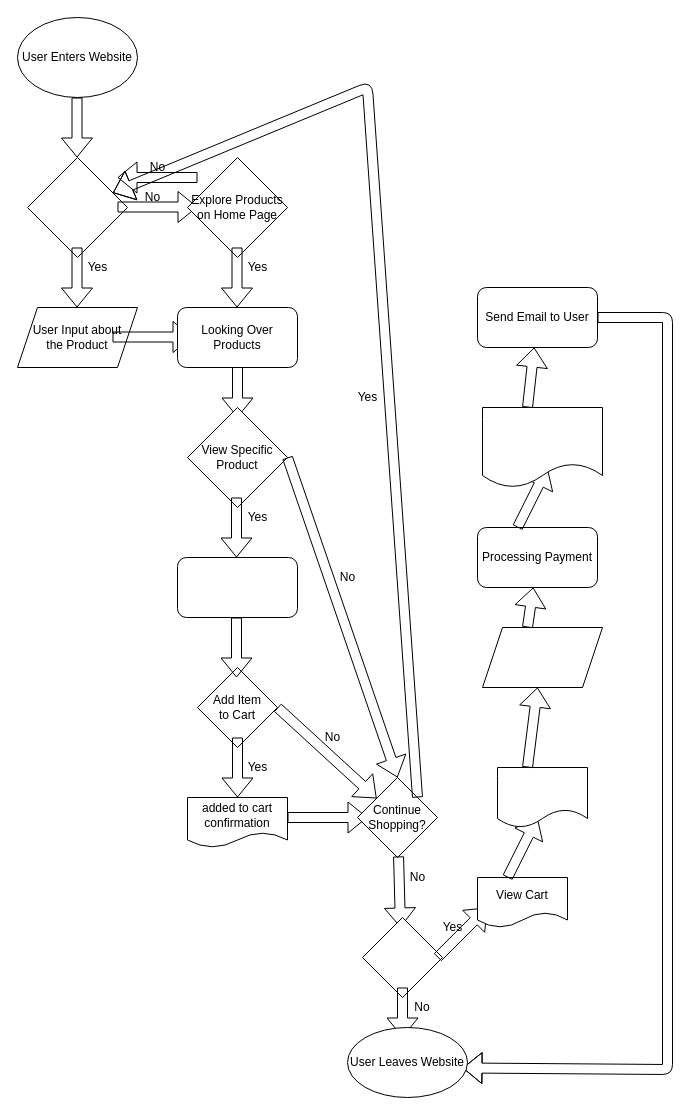
Some shapes in this 690 by 1115 pixel diagram are drawn without their labels. Here are the shapes that lost their labels. From the top down, the centre of each, then its label:
(77,207): Search For A Product
(542,447): Order Confirmation
(237,587): Product Page Opened
(542,657): User Input Payment Infomation
(542,797): View Payment
(402,957): Checkout?
